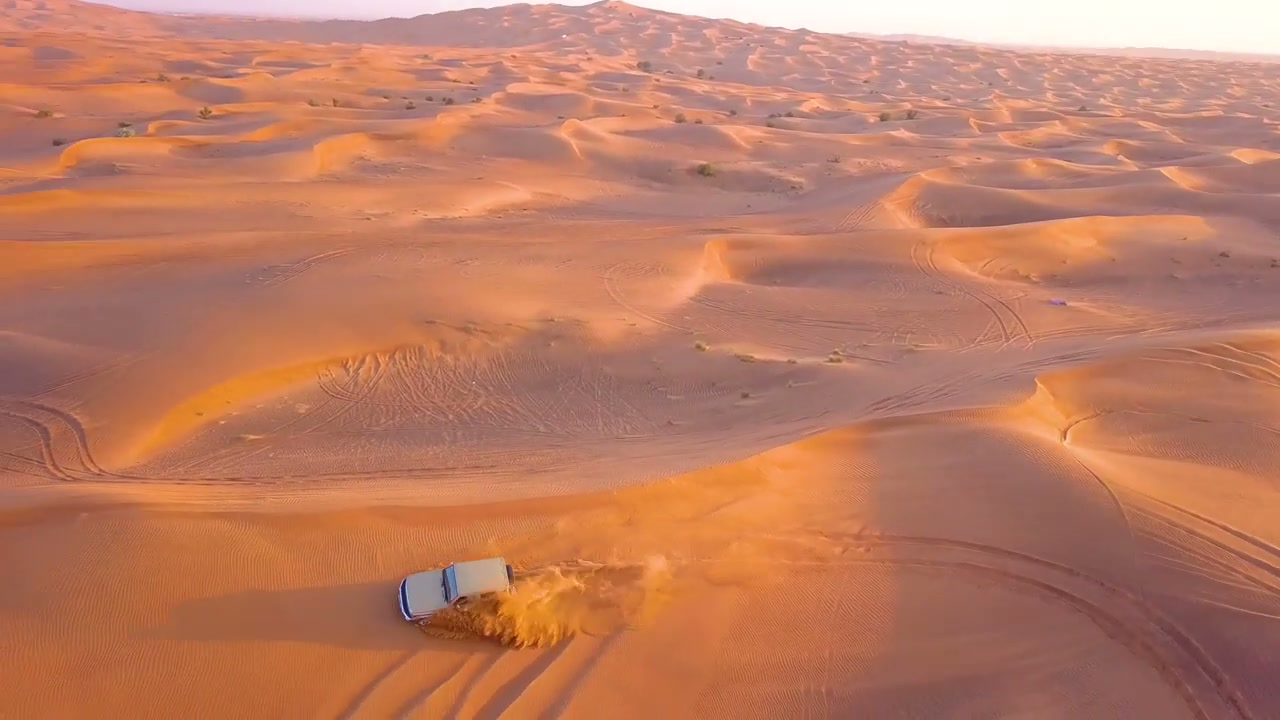vehicle_track: (822, 532, 1255, 719), (850, 558, 1220, 719), (0, 401, 502, 486), (1132, 491, 1279, 597), (910, 240, 1034, 346), (926, 243, 1033, 345), (0, 401, 133, 481), (910, 241, 1009, 347), (690, 293, 881, 331), (601, 263, 693, 332), (337, 650, 422, 719), (258, 247, 358, 286), (833, 199, 879, 231)
